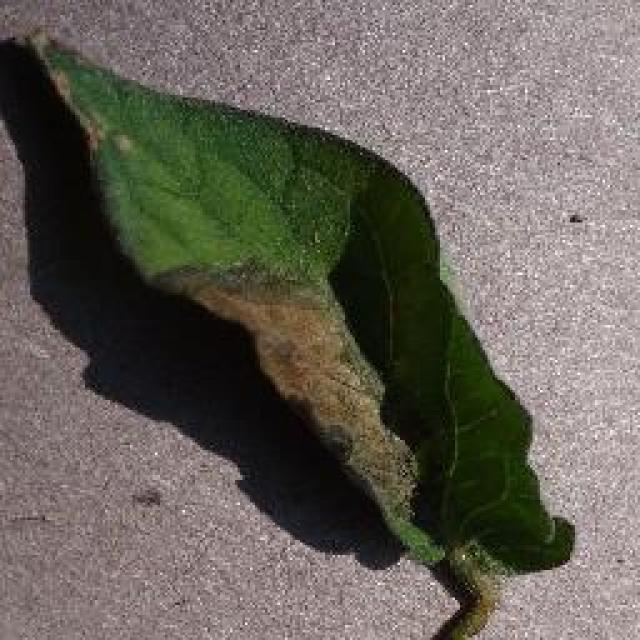Tomato Late Blight: (182, 223, 456, 560)
